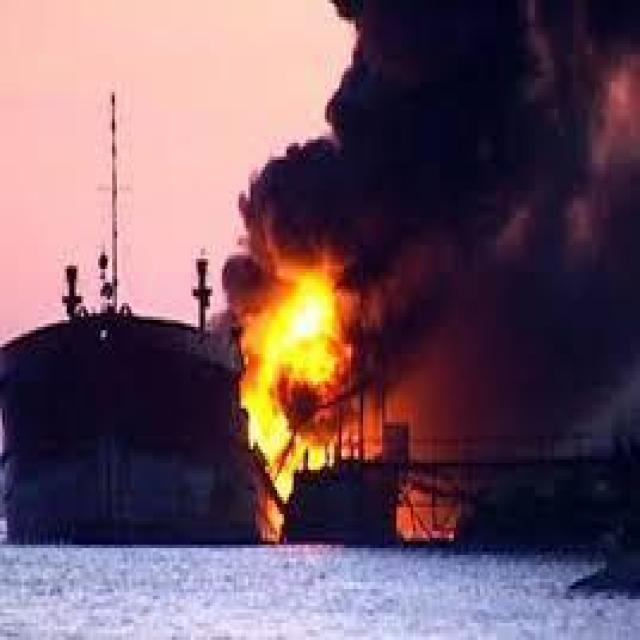fire: (222, 262, 383, 522)
smoke: (220, 0, 635, 266)
